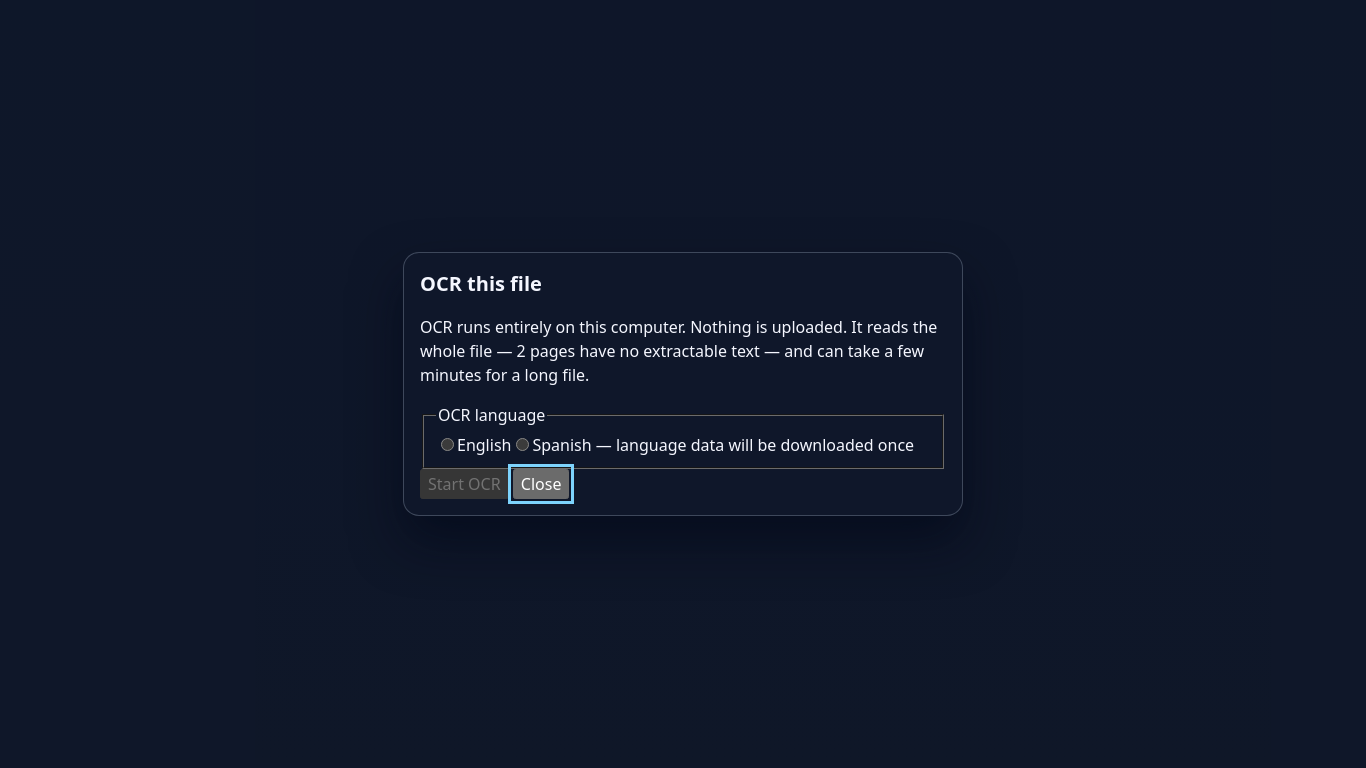
it: OCR dialog › runs the whole file and hands the results to the reader
Click the radio button labelled "English". click: point(448, 444)
box: left=441, top=438, right=454, bottom=451
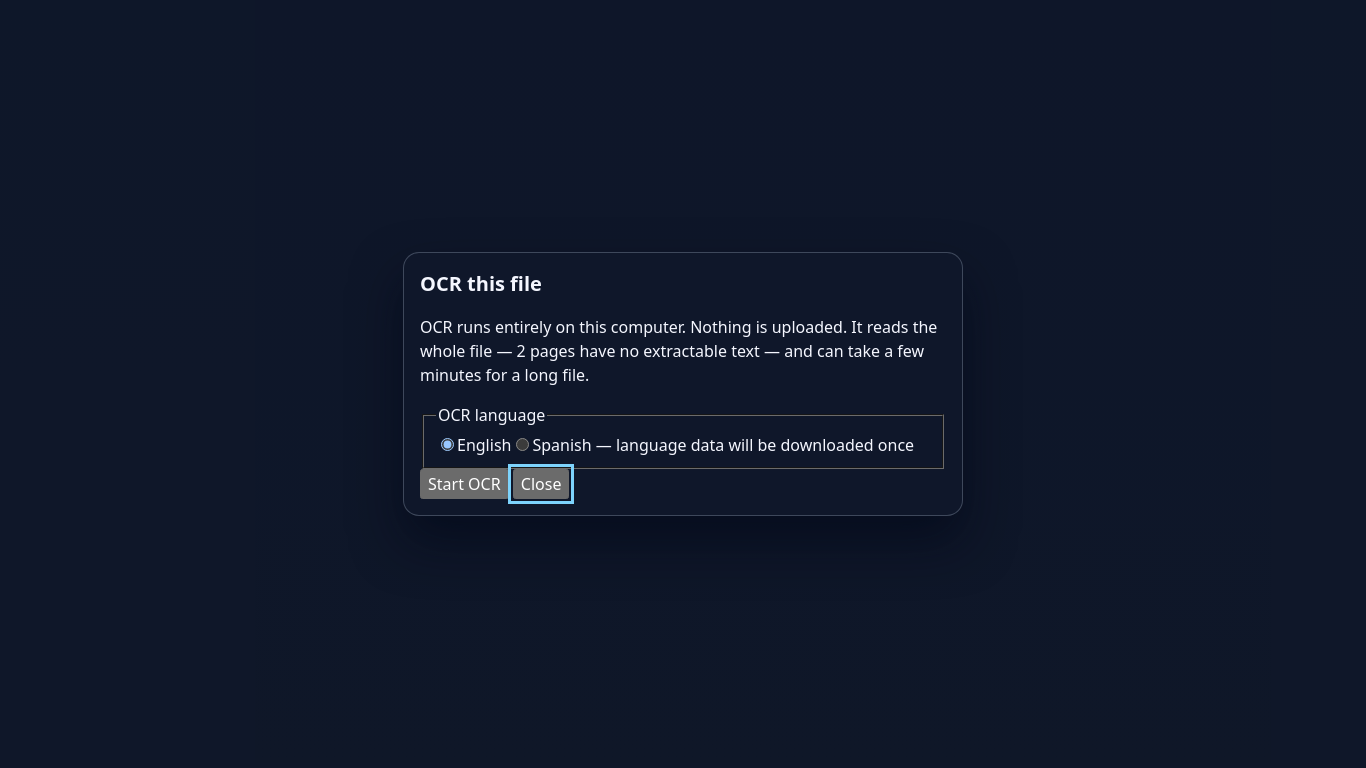
Click the button "Start OCR". click: point(464, 484)
box: left=420, top=469, right=509, bottom=499
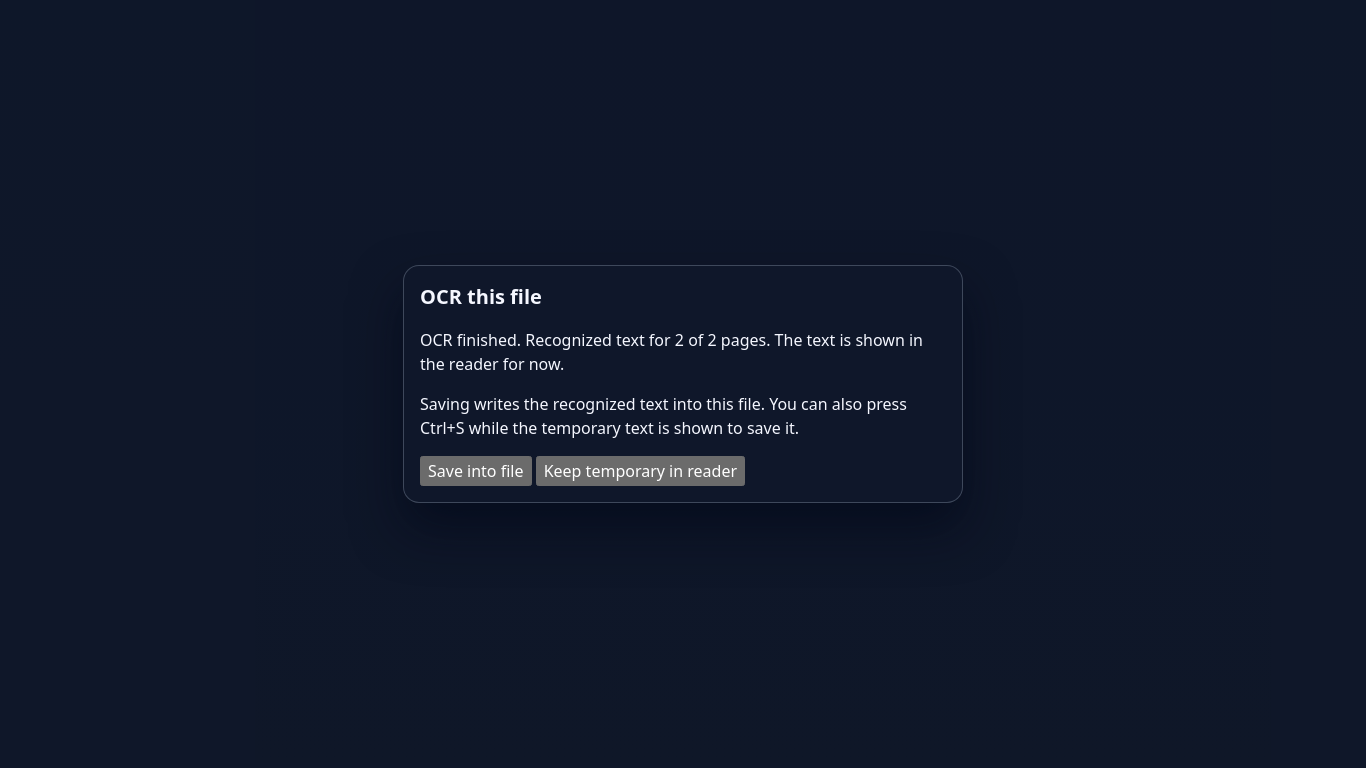
Expected: the message shows "OCR finished. Recognized text for 2 of 2 pages.", left=420, top=328, right=946, bottom=376
Expected: the button "Save into file" is shown, left=420, top=456, right=532, bottom=486
Expected: the button "Keep temporary in reader" is shown, left=536, top=456, right=745, bottom=486
